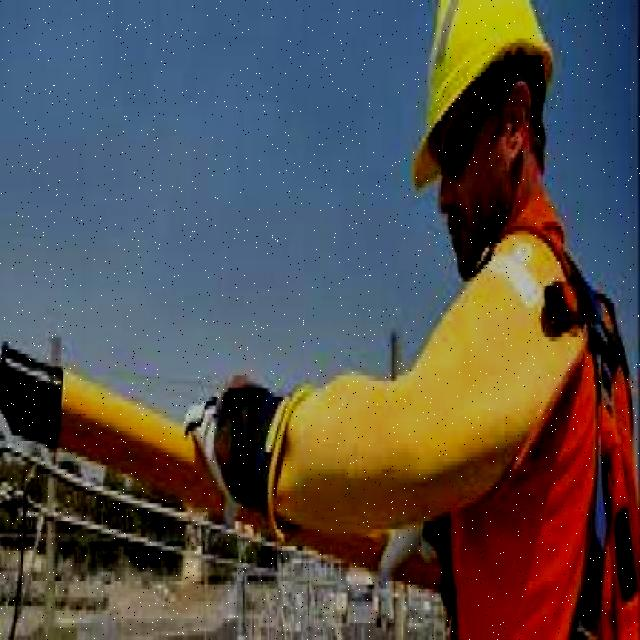Gloves: (190, 376, 292, 554)
Helmet: (412, 0, 558, 192)
